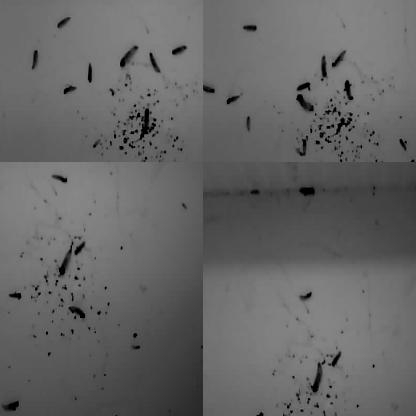PtecticusTenebrifer: (120, 44, 139, 68), (311, 362, 324, 393), (60, 245, 72, 274), (148, 52, 162, 76), (296, 95, 314, 113), (331, 49, 346, 69), (170, 44, 190, 56), (56, 15, 73, 29), (69, 306, 86, 318), (2, 400, 19, 412), (344, 79, 353, 101), (31, 49, 39, 73), (299, 185, 315, 197), (320, 56, 328, 79), (203, 138, 211, 160), (203, 83, 216, 96), (226, 94, 240, 106), (296, 81, 311, 92), (242, 23, 257, 34), (52, 174, 67, 185), (332, 350, 342, 366), (299, 291, 312, 303), (0, 135, 9, 151), (76, 241, 86, 255), (246, 114, 252, 136), (62, 86, 76, 95), (145, 109, 150, 134), (301, 138, 307, 156), (88, 63, 93, 84), (54, 162, 70, 168), (186, 162, 202, 168), (9, 292, 21, 300), (324, 0, 339, 6), (16, 0, 32, 5), (203, 227, 211, 237), (203, 0, 209, 10), (251, 411, 263, 416), (0, 223, 6, 232), (387, 0, 400, 4), (203, 343, 209, 351), (0, 162, 7, 166), (203, 0, 208, 5)
